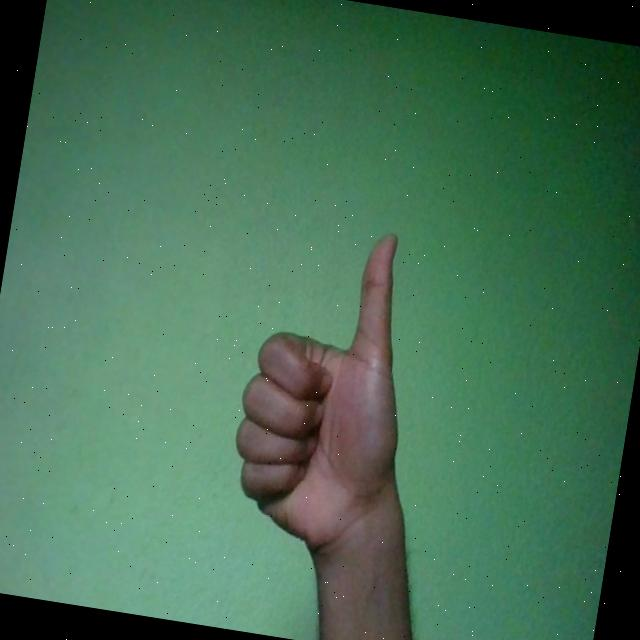Good Job: (219, 214, 430, 566)
